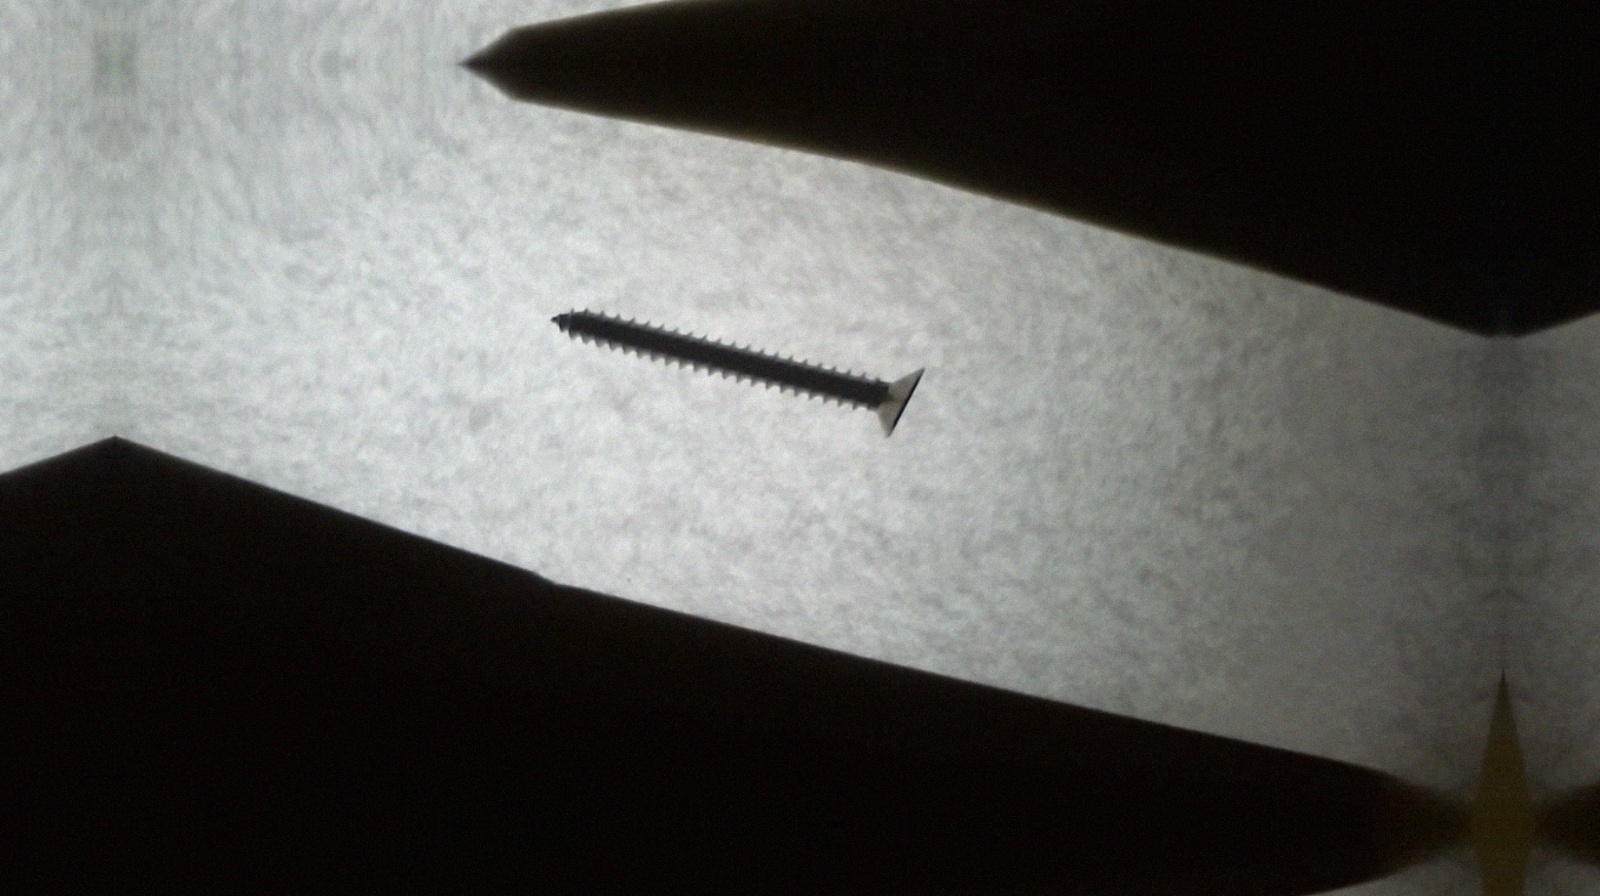S002: (534, 305, 938, 444)
